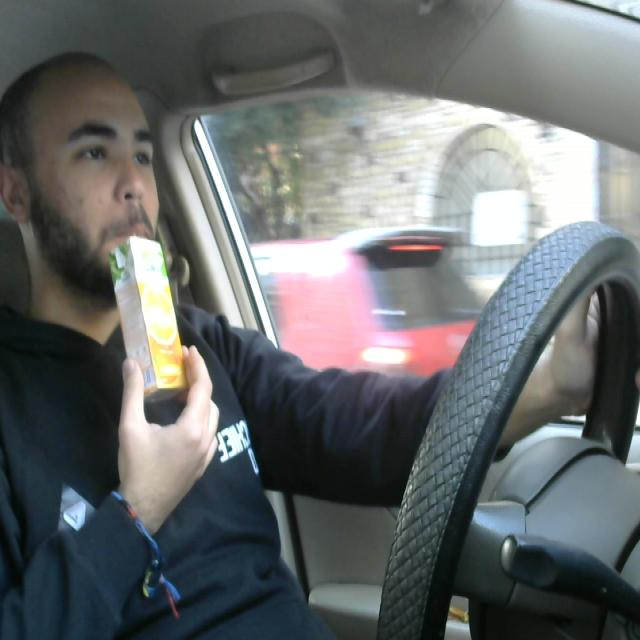drinking: (102, 221, 198, 405)
